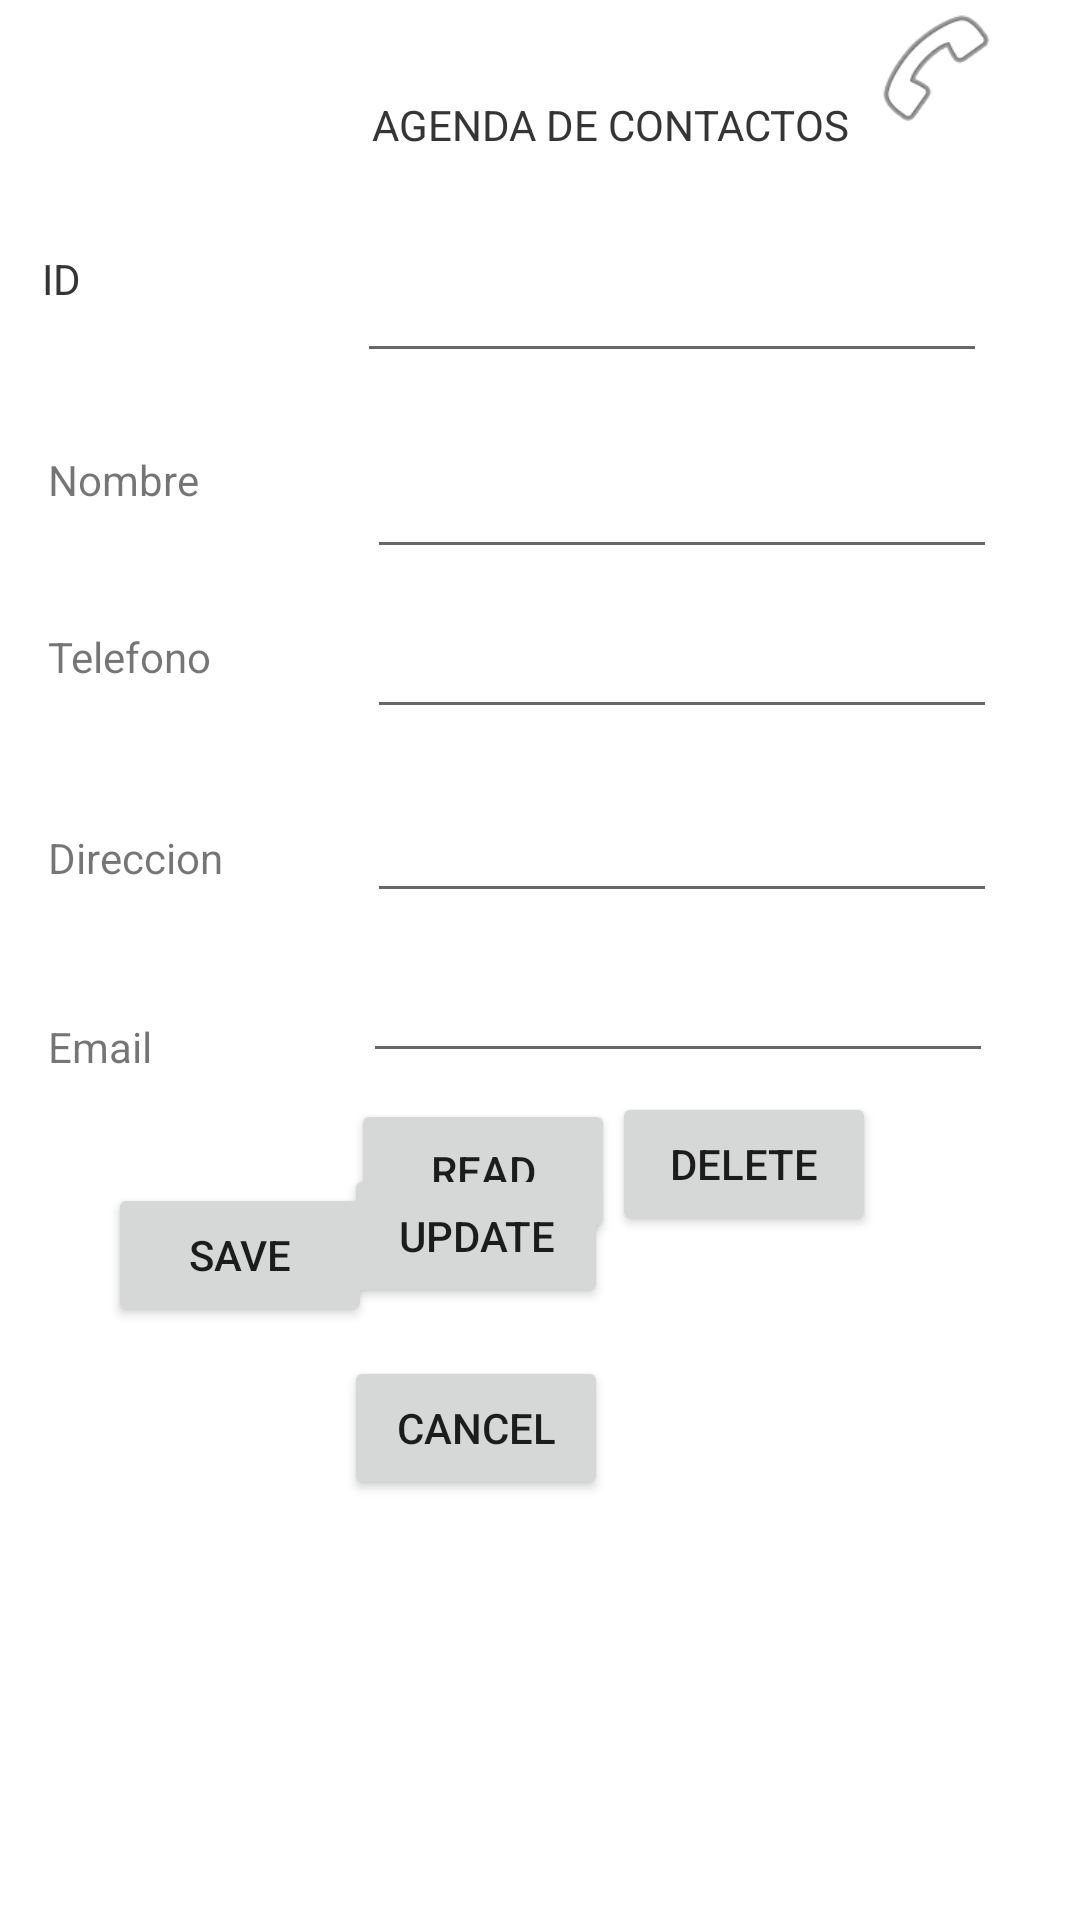

Icons on this 1080x1920 Android screen, each with its box as (x1, y1, x2, y2):
call: (883, 15, 989, 121)
